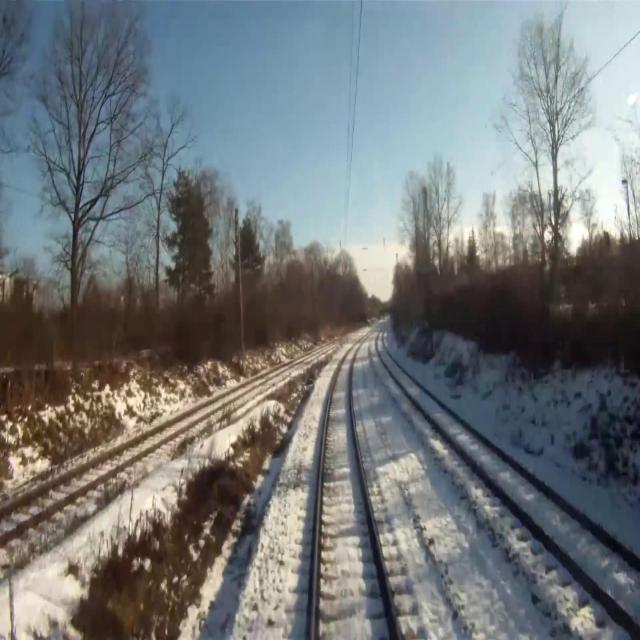rail-track: (377, 327, 640, 621), (0, 377, 261, 531), (315, 341, 397, 639)
